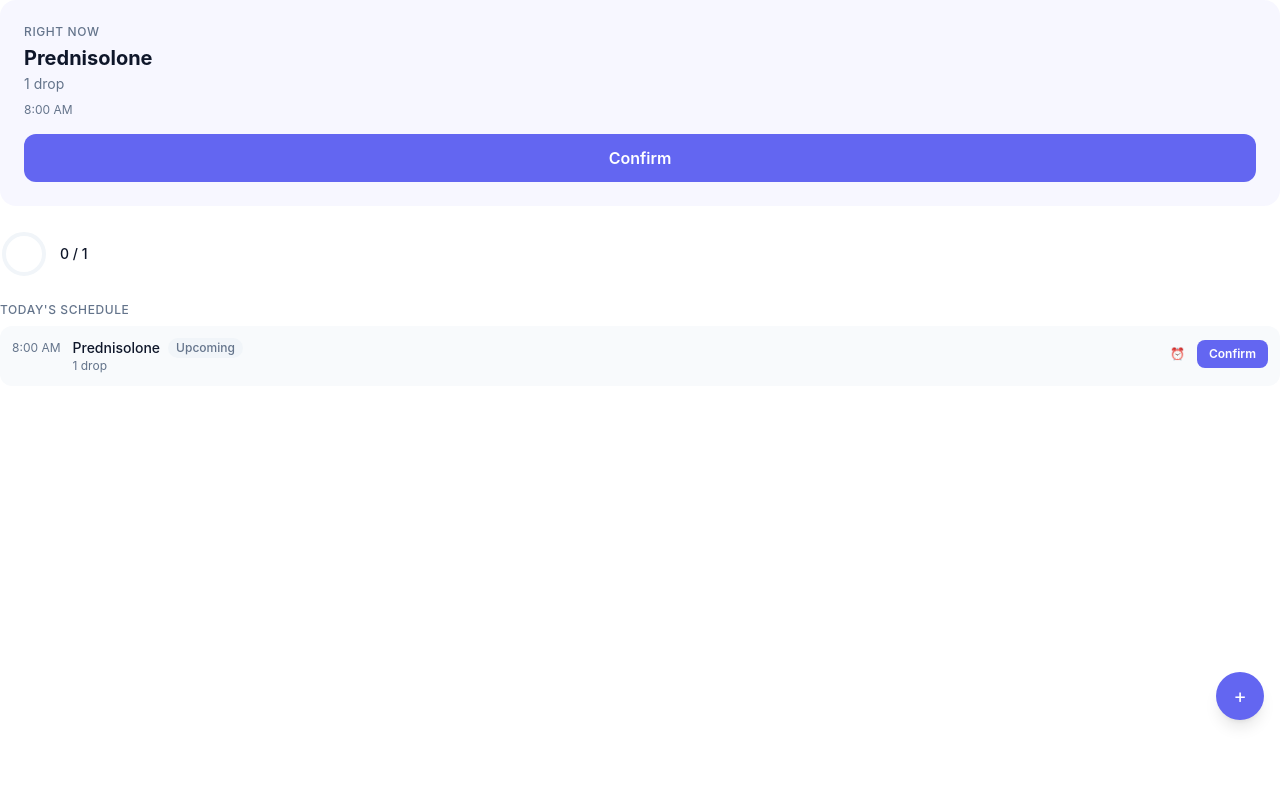
Test: DashboardPage › closes observation sheet after submit
This screenshot has width=1280, height=800.
# Open sheet
Click the button named "Add observation". click: x=1240, y=696
box: [1216,672,1264,720]
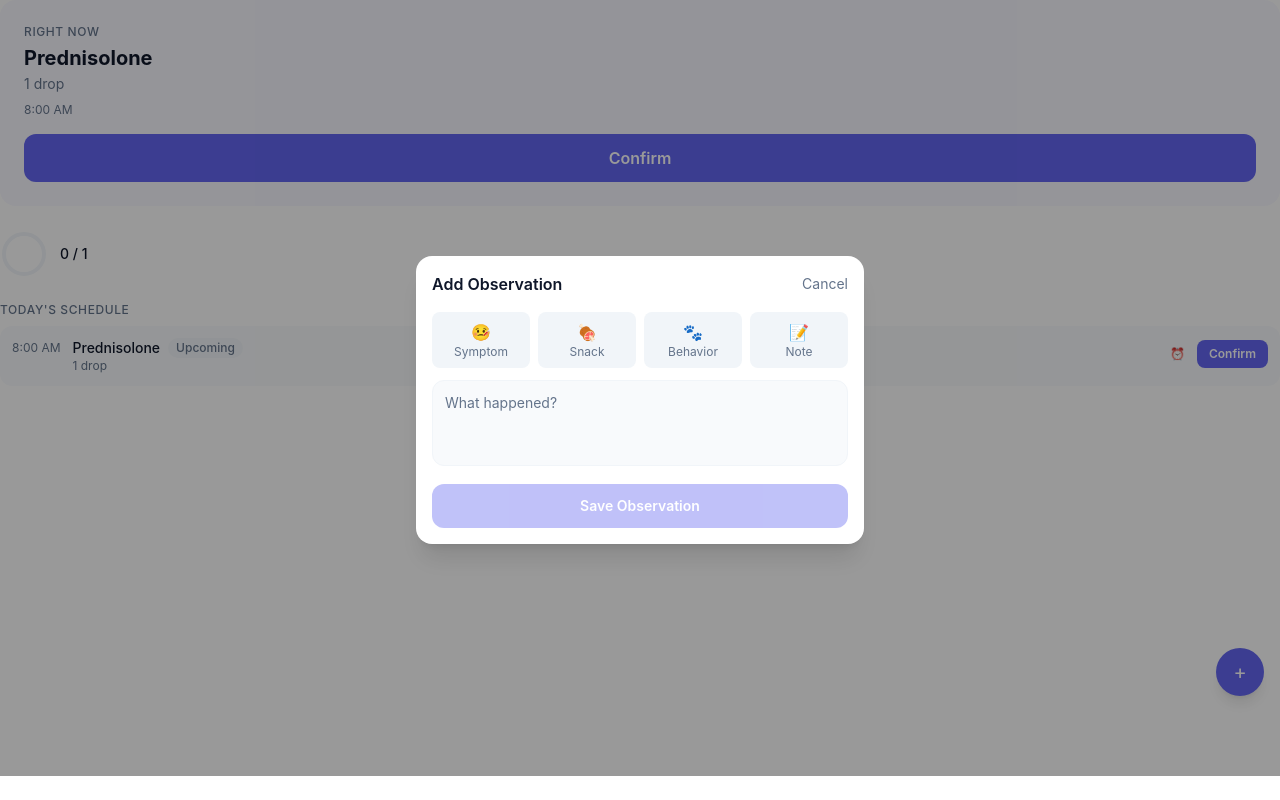
Expected: the heading "Add Observation" is shown, [432,272,562,296]
# Select category and type text
Click the button "🤒 Symptom". click: x=481, y=340
box: [432,312,530,368]
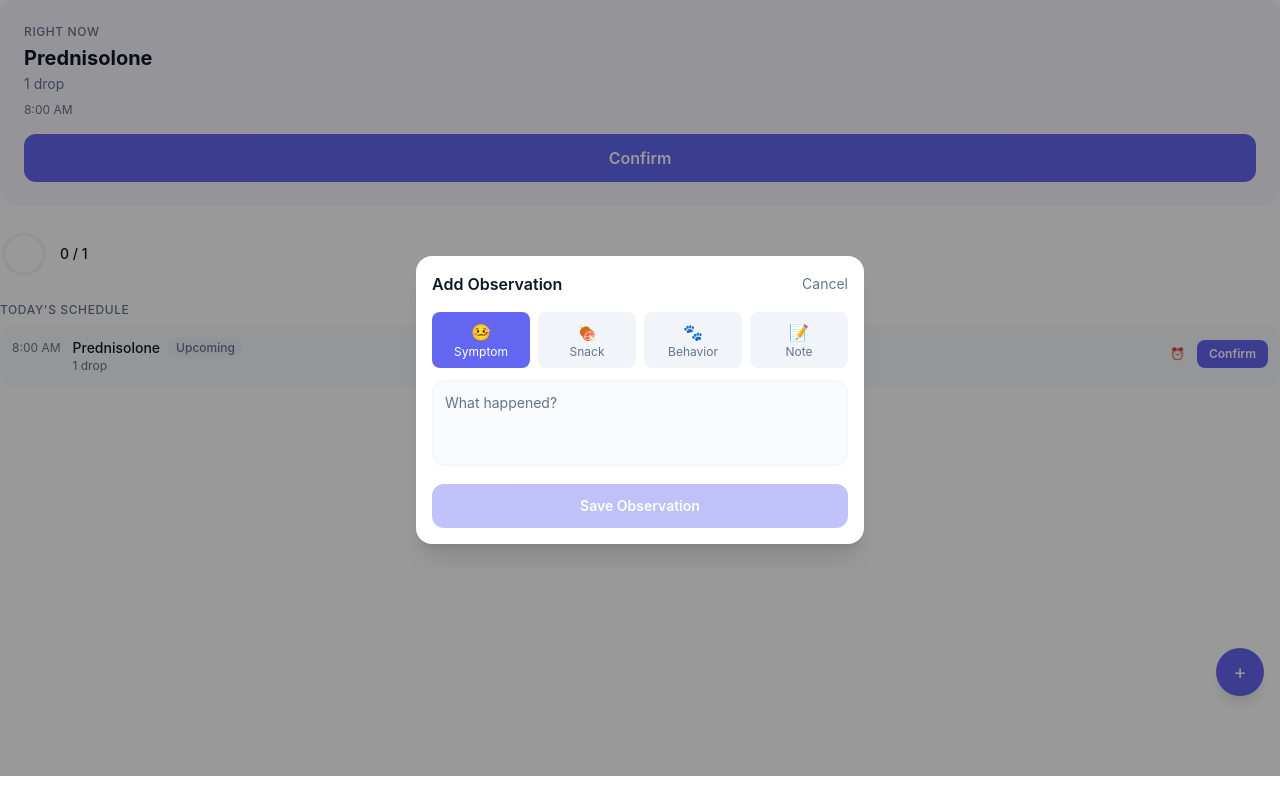
Type "Yuki sneezed" into the text box with placeholder "What happened?". click: x=640, y=423
box: [432,380,848,466]
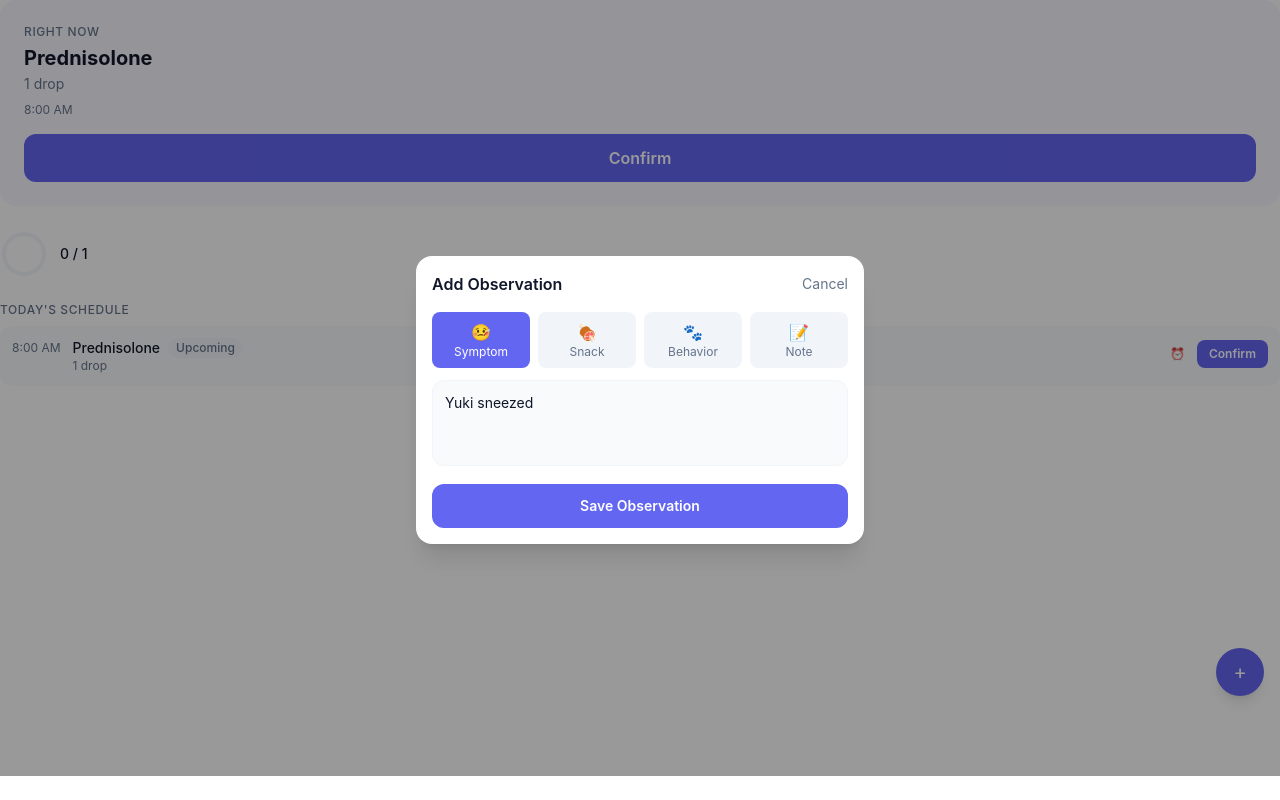
Click the button "Save Observation". click: x=640, y=506
box: [432,484,848,528]
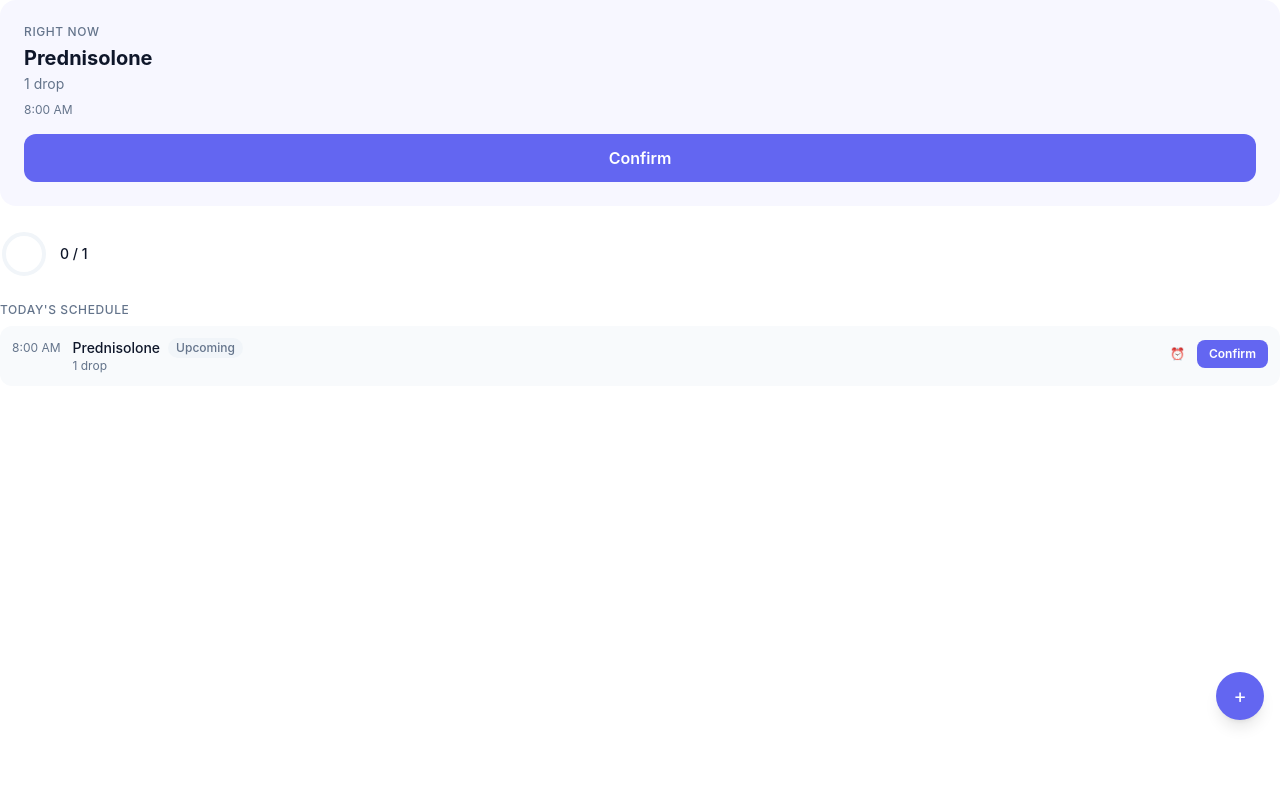
Expected: the dialog is gone
